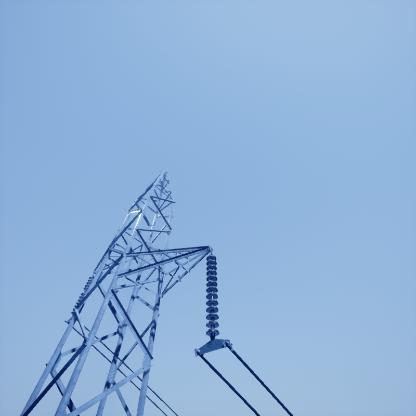insulator: (204, 254, 219, 339)
